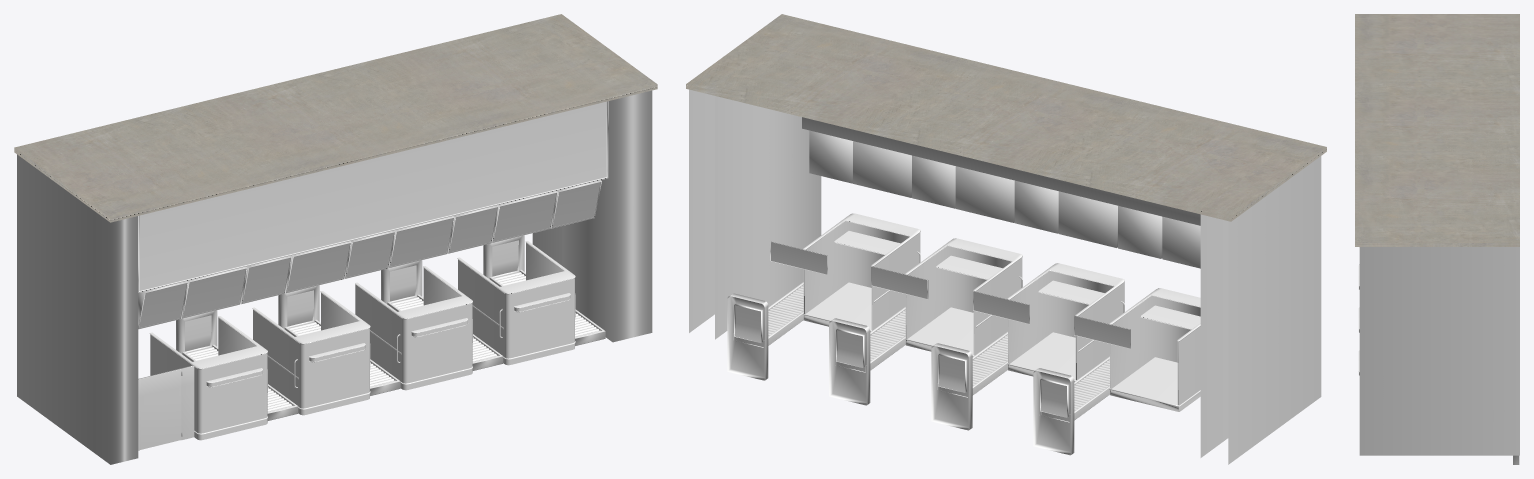
Rendered from ticketschalter.fbx.
3 views of the same model, side by side, from view 1: azimuth 30°, elevation 25°; view 2: azimuth 150°, elevation 25°; view 3: azimuth 270°, elevation 25° (orthographic). The views are drawn at different scales.
Parts seen in each view (by area): view 1: trennwand_01, trennwand_02, banner_01, schalter_main; view 2: trennwand_02, schalter_main, trennwand_01, banner_01; view 3: trennwand_02, trennwand_01, schalter_main.
Boxes of the visible parts, box(x1,y1,x2,y2) form: trennwand_01: box(14, 14, 657, 464); trennwand_02: box(58, 14, 657, 342); banner_01: box(138, 101, 608, 329); schalter_main: box(138, 235, 605, 450); trennwand_02: box(686, 14, 1295, 339); schalter_main: box(727, 213, 1200, 455); trennwand_01: box(687, 14, 1326, 464); banner_01: box(770, 117, 1200, 348); trennwand_02: box(1355, 26, 1519, 455); trennwand_01: box(1355, 14, 1519, 242); schalter_main: box(1358, 264, 1519, 464).
Bounding box in the file's own units: 1193 × 581 × 363.
